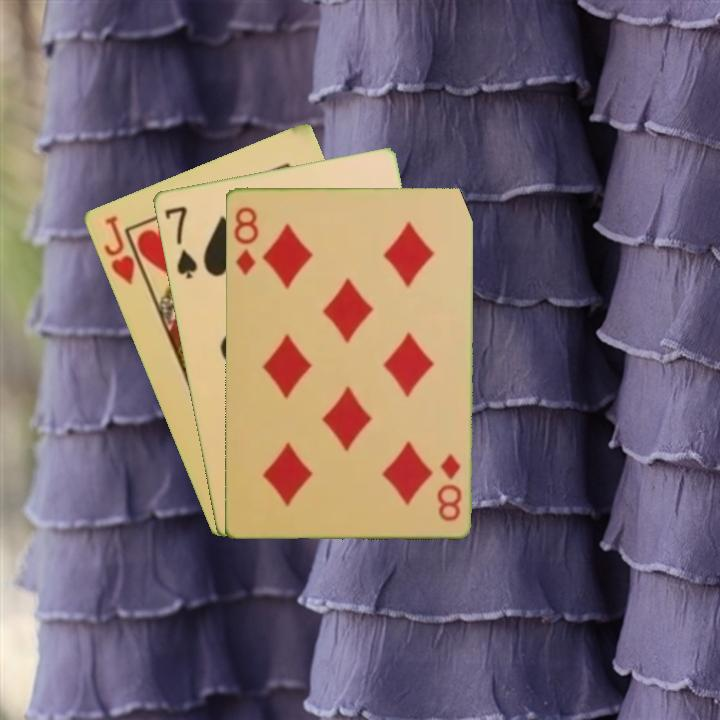7s: (161, 202, 200, 281)
8d: (230, 203, 260, 278), (434, 449, 464, 523)
Jh: (100, 212, 137, 288)
